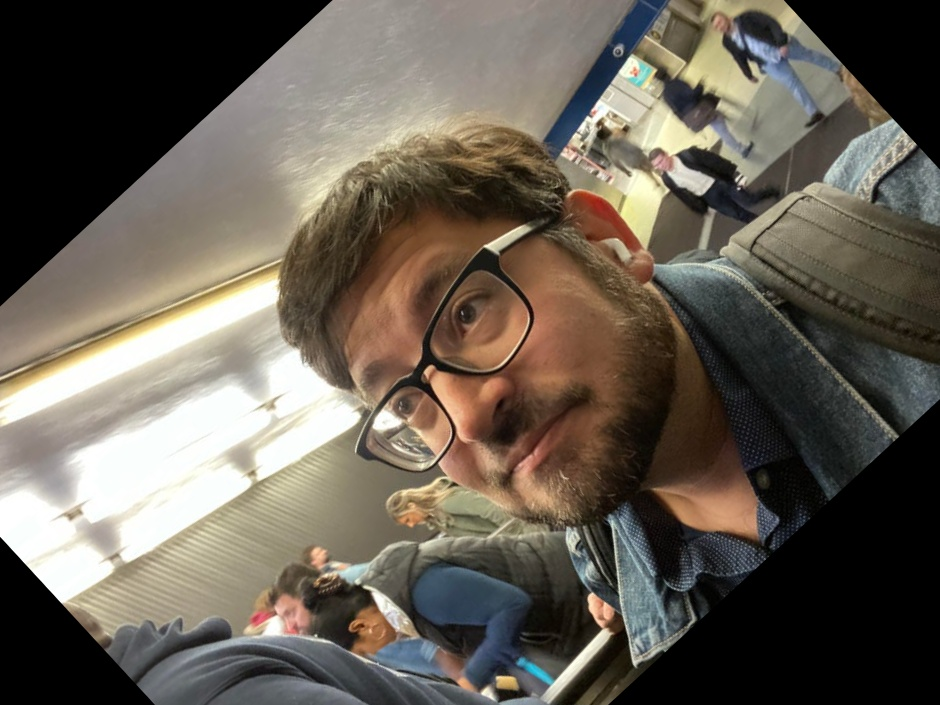earphone: (552, 178, 666, 296)
